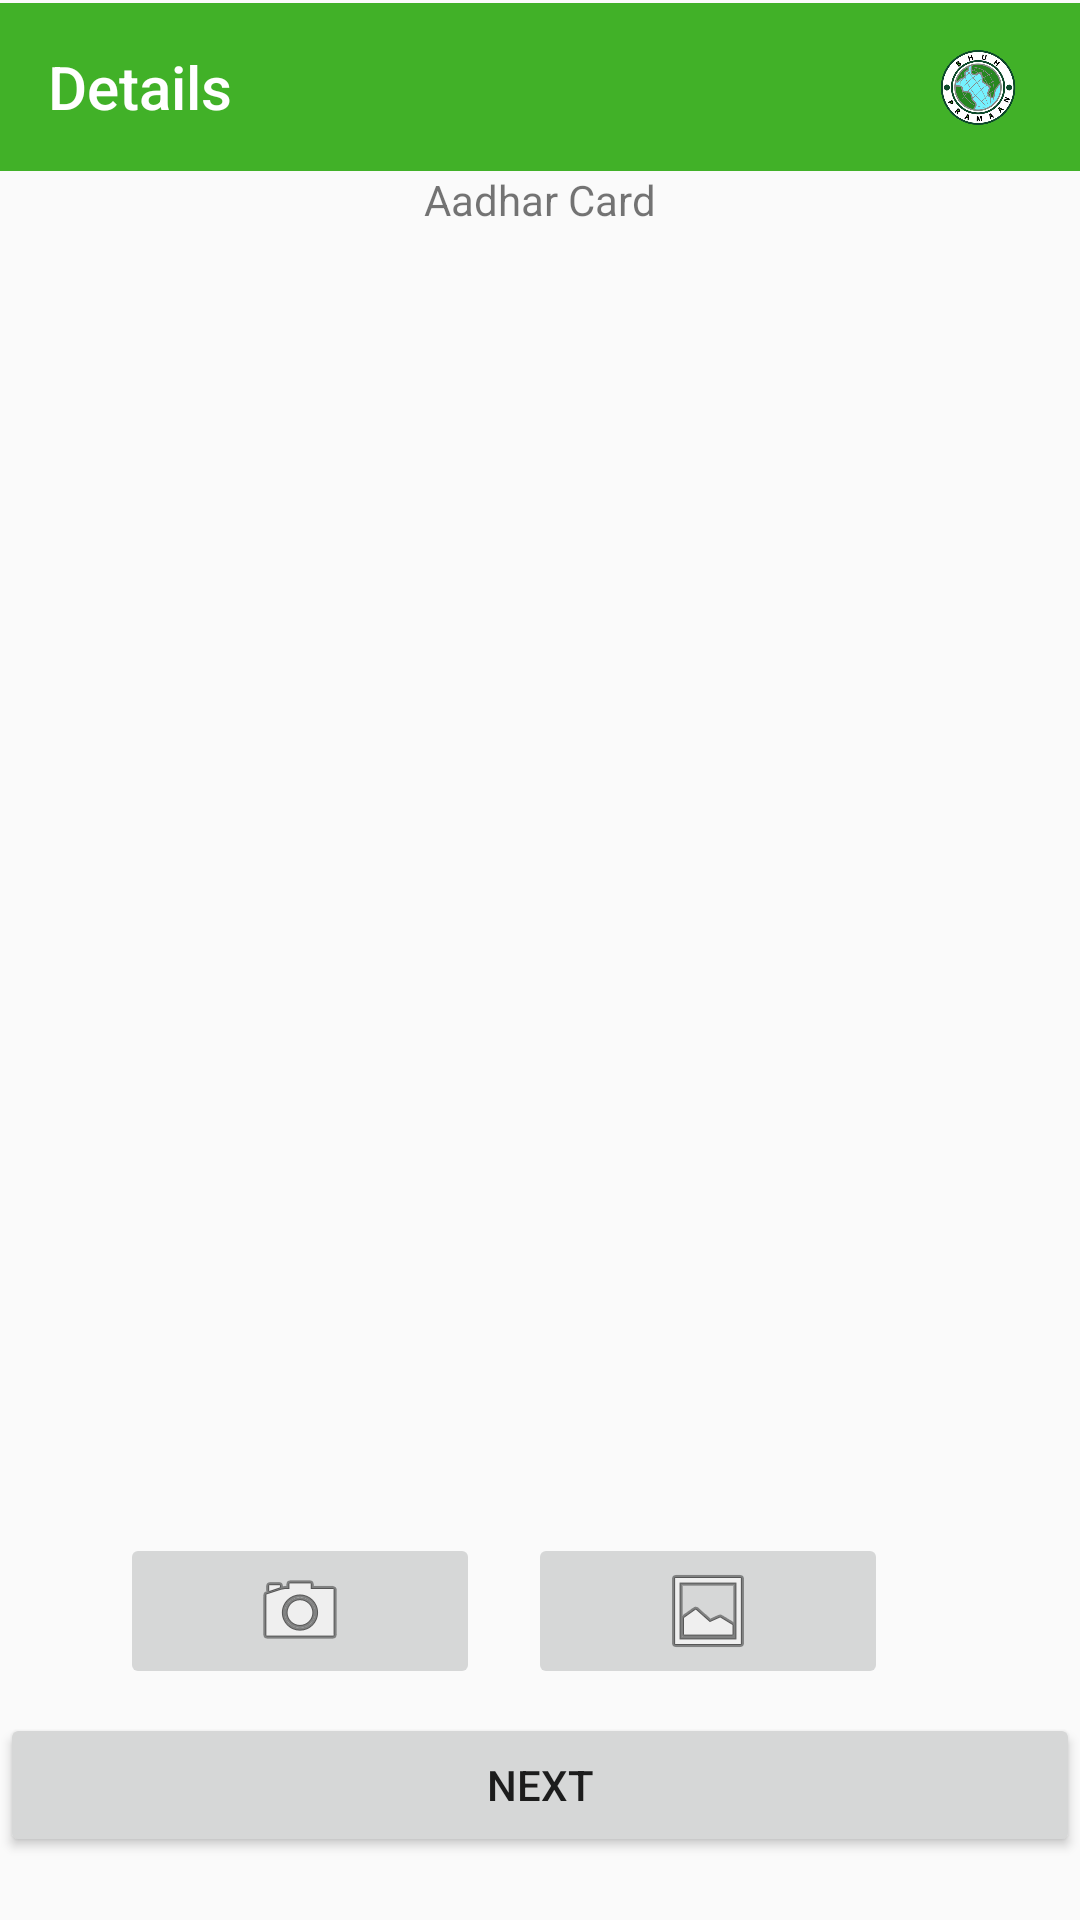

Icon bounding boxes for this 1080x1920 phone screenshot, format (x1, y1, x2, y2):
camera: (132, 1551, 468, 1671)
gallery: (540, 1551, 876, 1671)
